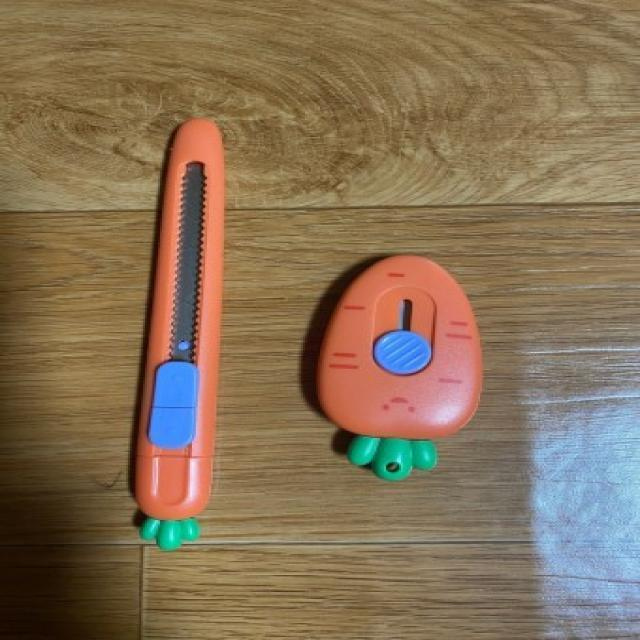cutter: (119, 95, 273, 570)
